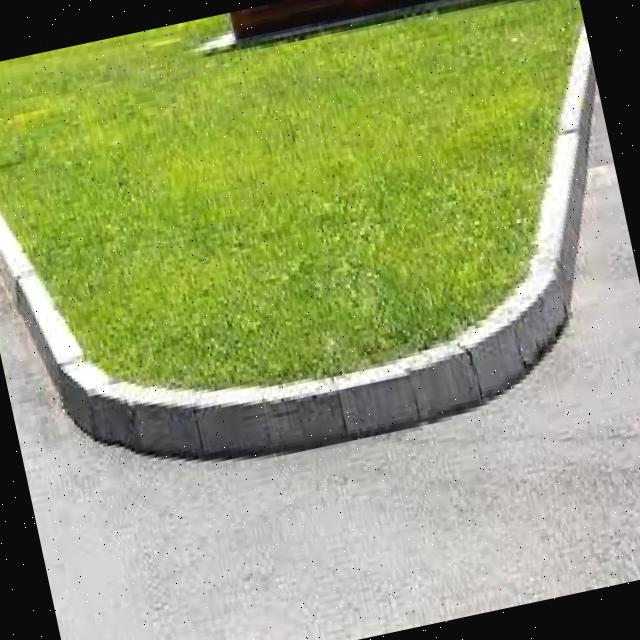curb: (141, 319, 517, 487), (43, 327, 153, 469), (1, 222, 73, 358), (482, 288, 581, 381), (514, 209, 592, 309), (529, 139, 595, 219), (546, 65, 605, 145)
